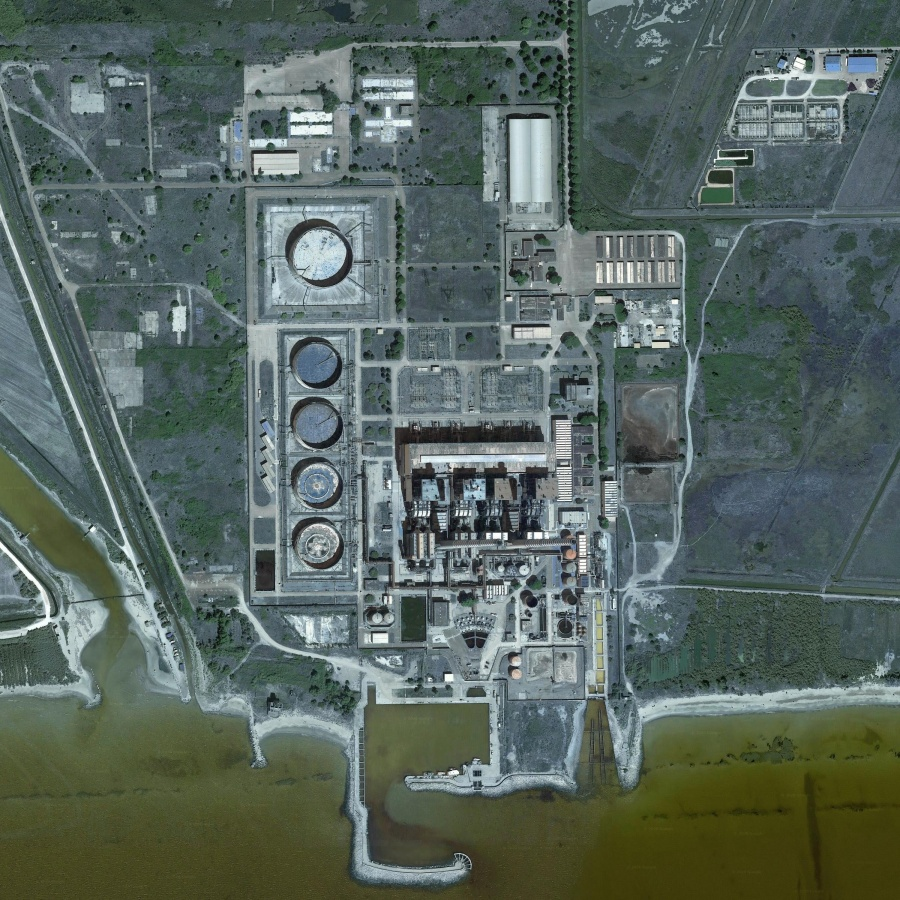PowerPlant: (242, 188, 392, 603)
